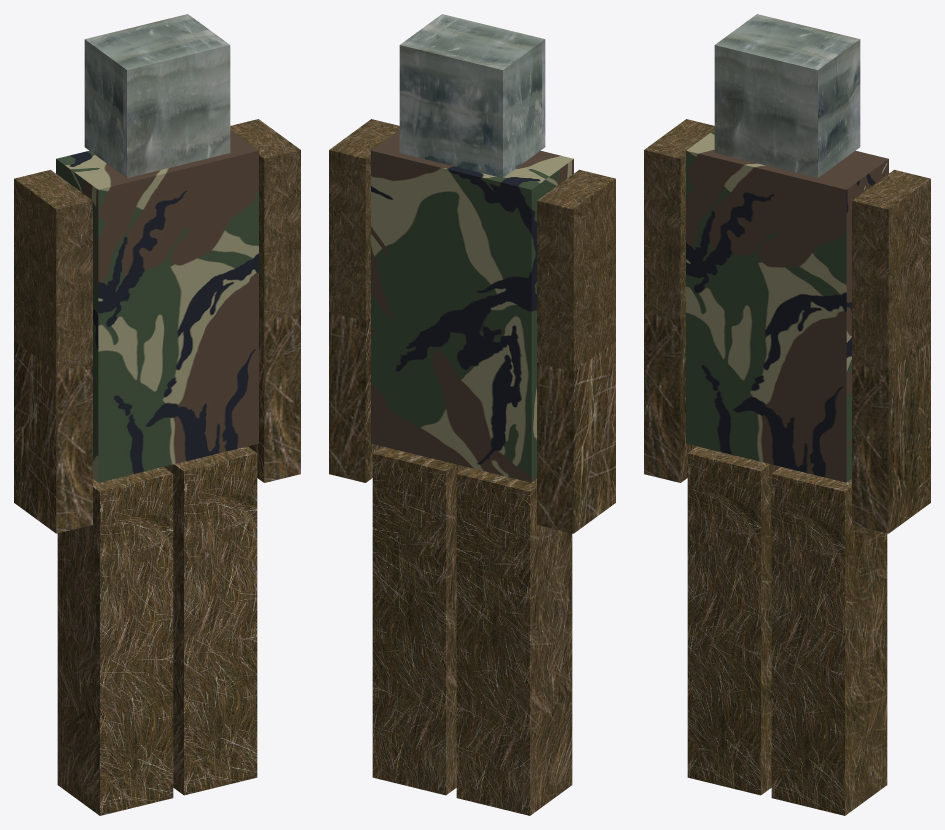
The model's file is CubeDude_multitextured_v5.fbx.
3 views of the same model, side by side, from view 1: azimuth 30°, elevation 25°; view 2: azimuth 150°, elevation 25°; view 3: azimuth 330°, elevation 25° (orthographic).
Parts seen in each view (by area): view 1: CubeDude; view 2: CubeDude; view 3: CubeDude.
Part boxes in pixels (x1,y1,x2,y2): CubeDude: (14, 14, 300, 815); CubeDude: (329, 14, 615, 815); CubeDude: (644, 14, 930, 815).
Size of what is drawn, in the model's own units: 66.65 by 192 by 20.
Materials: 3 (3 with a texture image).
